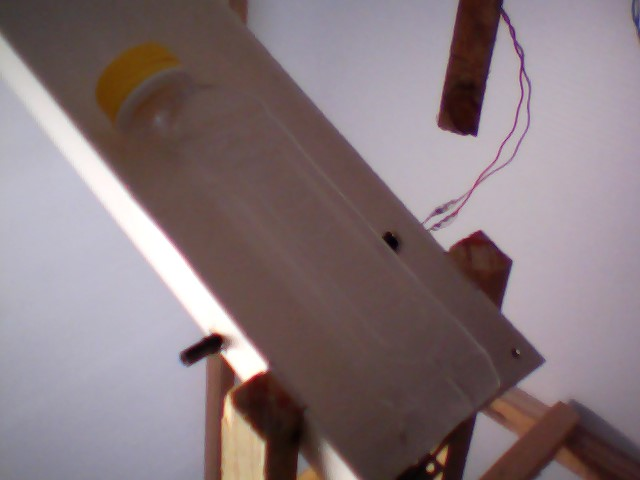plastico: (90, 35, 500, 480)
